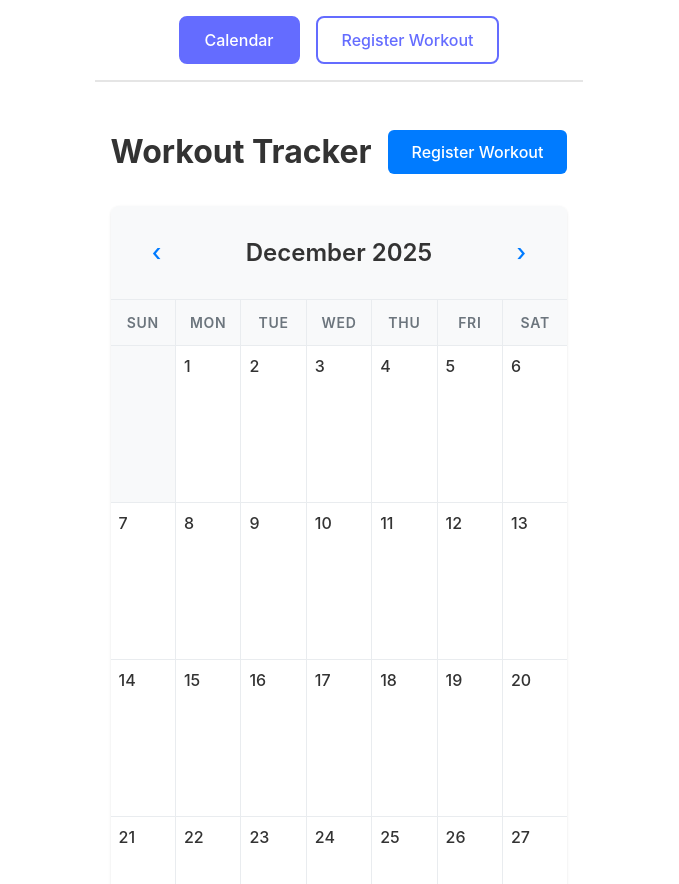
Test: Workout Tracker Integration Tests › Basic App Functionality › should handle basic workout registration workflow
# Navigate to registration
Click the button "Register Workout" next to "Workout Tracker" at (477,152), box [388,130,567,174]
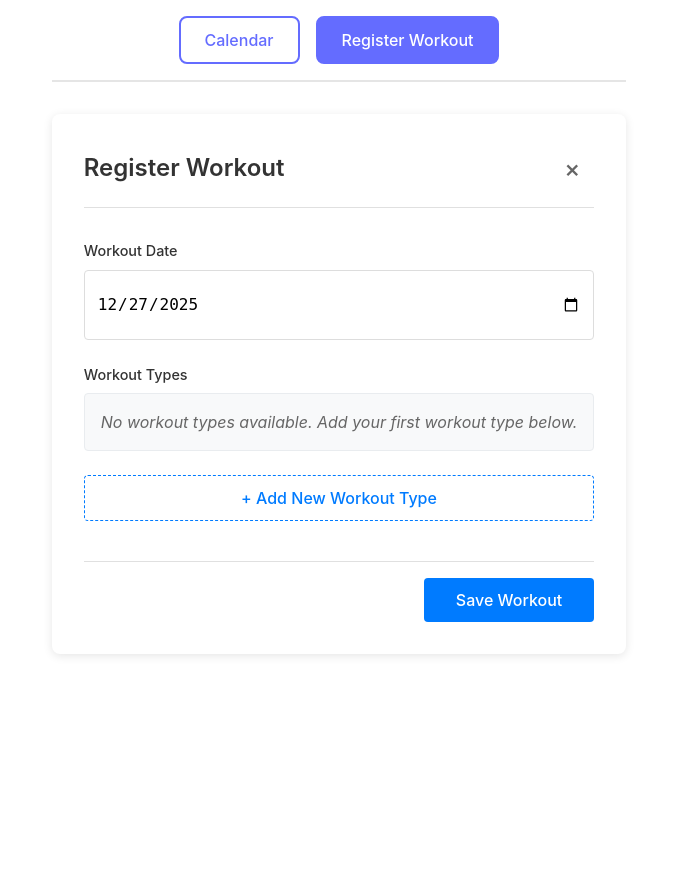
# Add a workout type by clicking the add button first
Click the button "+ Add New Workout Type" at (339,498), box [84,475,594,521]
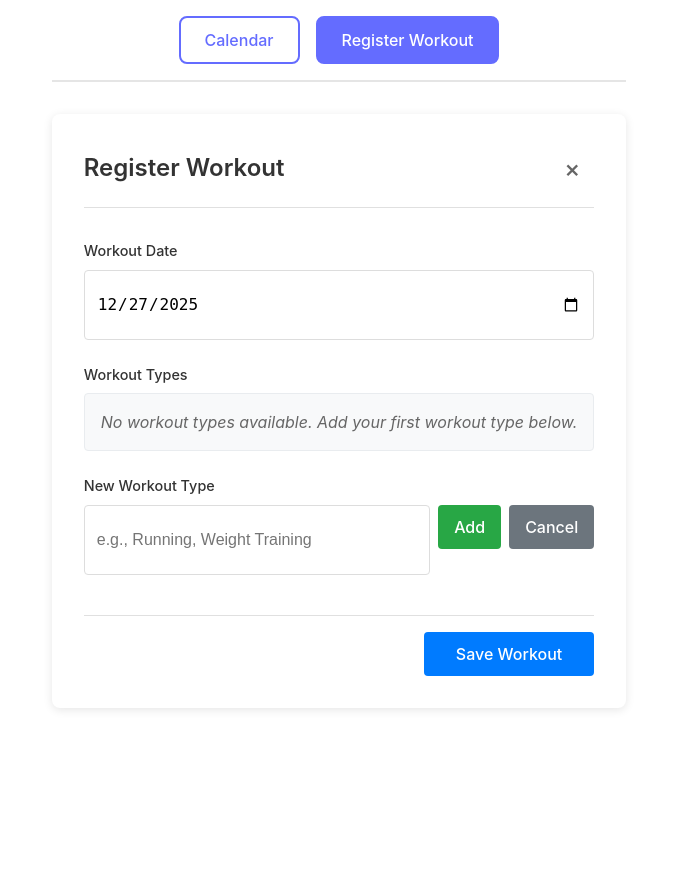
# Type in the input field
Type "Running" into the field labelled "New Workout Type" at (257,540), box [84,505,430,575]
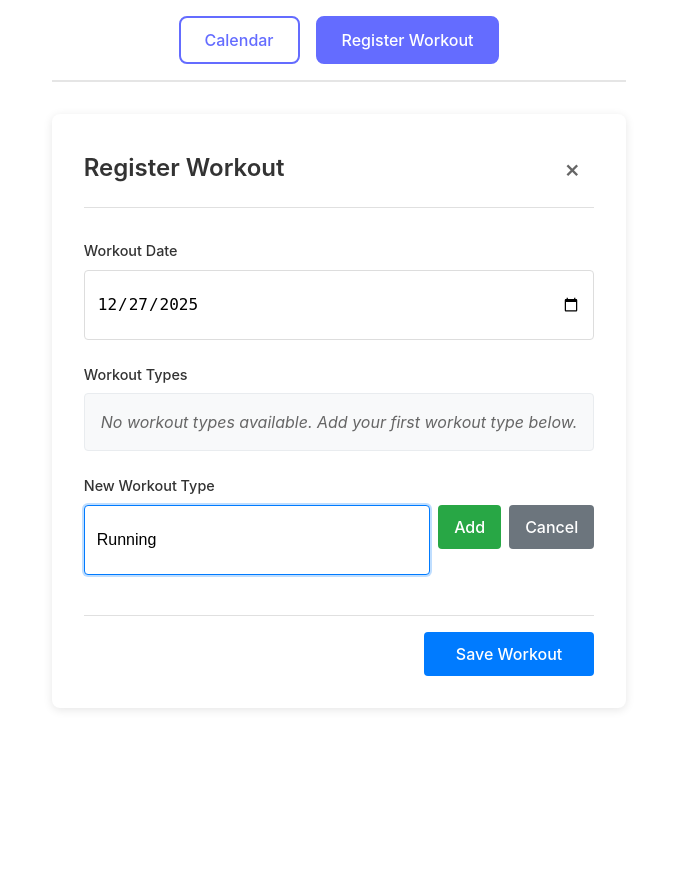
# Click Add button
Click the button "Add" at (470,527), box [438,505,501,549]
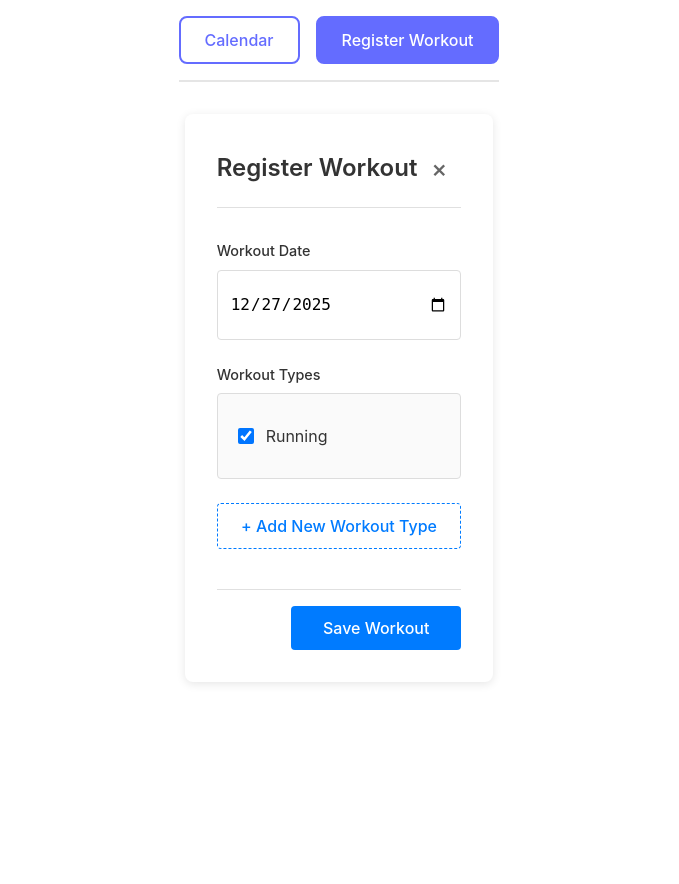
Expected: the text "Running" is shown, [266,426,327,446]
# Submit the form
Click the button "Save Workout" at (376,628), box [291,606,461,650]
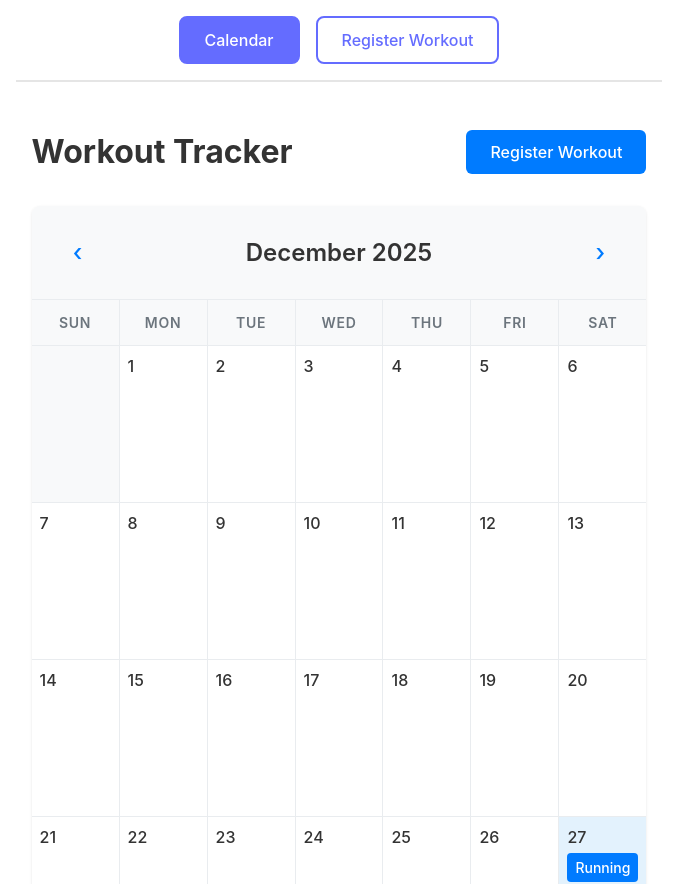
Expected: the heading "Workout Tracker" is shown, [32,134,292,170]
